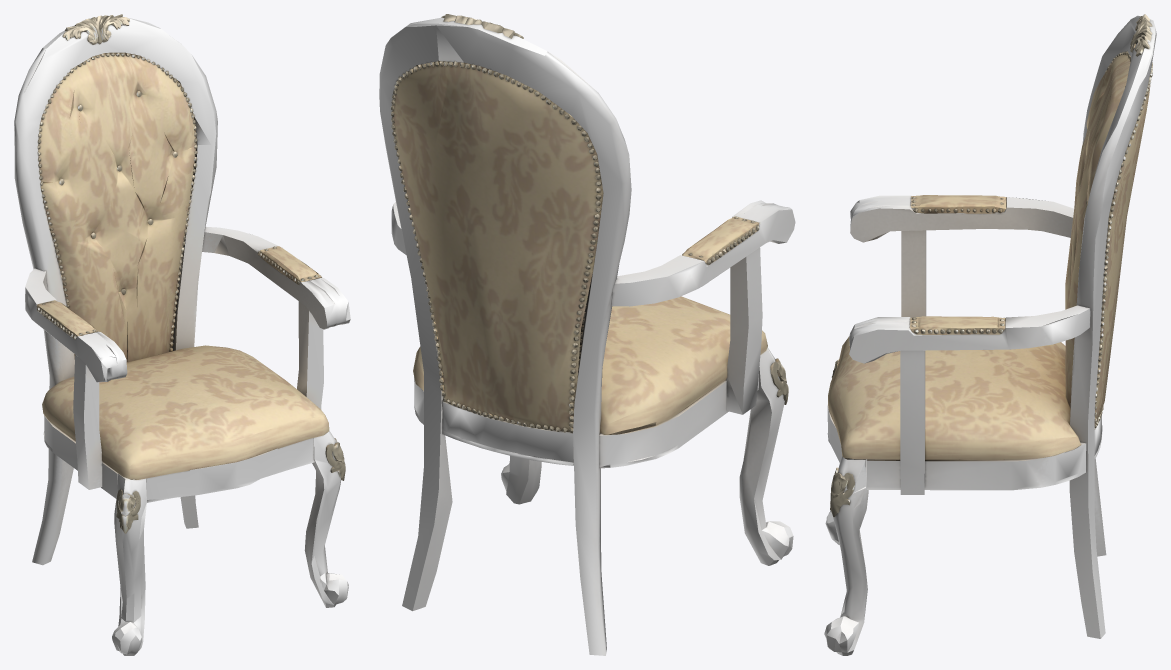
Rendered from raw_model.obj.
3 renders of one model, left to right at view 1: azimuth 30°, elevation 25°; view 2: azimuth 150°, elevation 25°; view 3: azimuth 270°, elevation 25°, orthographic. The views are drawn at different scales.
Parts seen in each view (by area): view 1: solid_002, solid_001, solid_003; view 2: solid_002, solid_001, solid_003, solid_004; view 3: solid_001, solid_002, solid_003.
Part boxes in pixels (x1,y1,x2,y2): solid_002: (36, 52, 329, 479); solid_001: (14, 17, 350, 655); solid_003: (37, 14, 345, 533); solid_002: (392, 61, 767, 434); solid_001: (379, 17, 795, 655); solid_003: (390, 14, 788, 432); solid_004: (442, 401, 573, 465); solid_001: (824, 15, 1156, 655); solid_002: (828, 54, 1150, 459); solid_003: (830, 14, 1152, 517).
Size of the model in its own units: 0.4754 by 0.9418 by 0.4958.
1 material, 1 textured.
